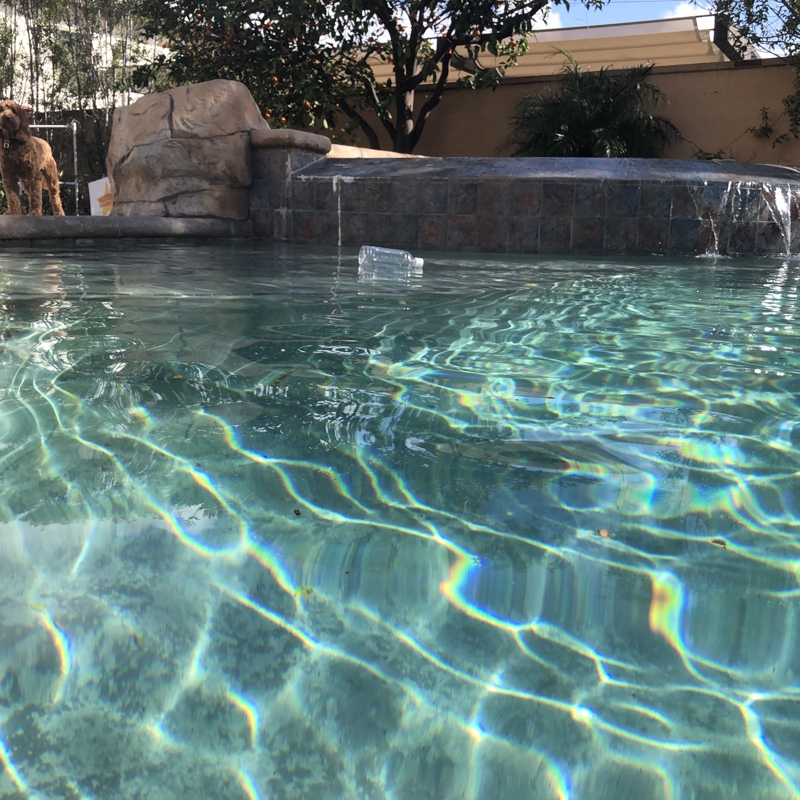Plastic Bottle: (355, 244, 423, 275)
